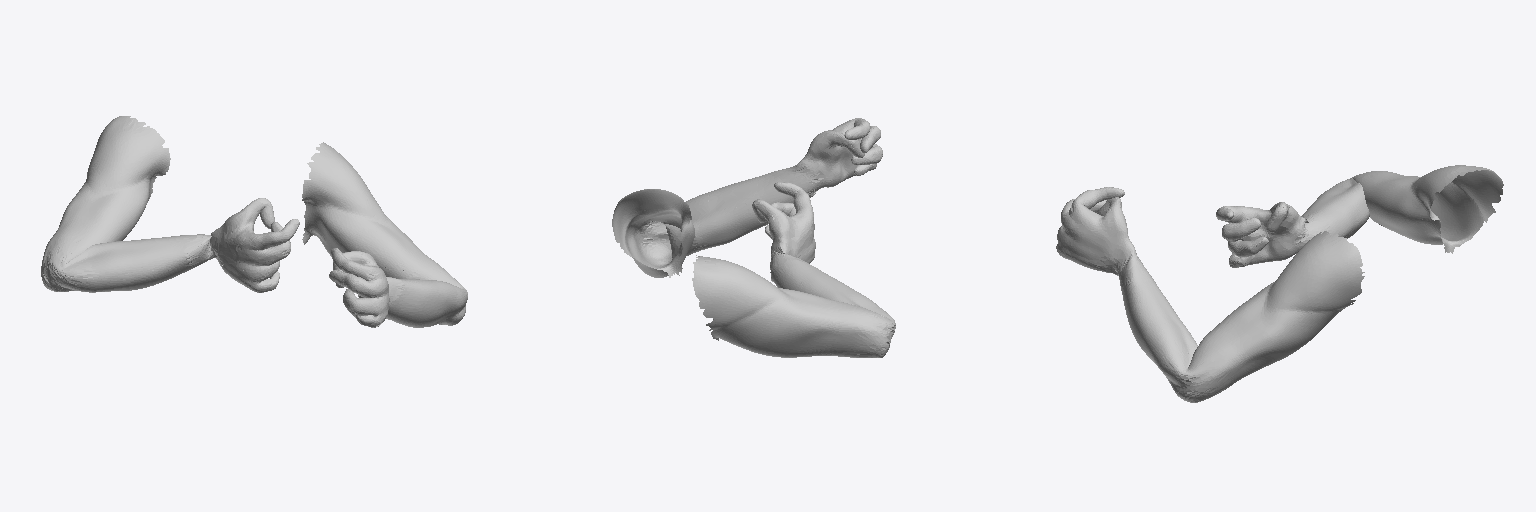
File: MP40-ReloadArms.obj
3 views of the same model, side by side, from view 1: azimuth 30°, elevation 25°; view 2: azimuth 150°, elevation 25°; view 3: azimuth 270°, elevation 25° (orthographic).
Visible parts, largest first — view 1: Decimated_Cartoon; view 2: Decimated_Cartoon; view 3: Decimated_Cartoon.
Boxes of the visible parts, box(x1,y1,x2,y2) form: Decimated_Cartoon: box(41, 116, 467, 327); Decimated_Cartoon: box(612, 118, 895, 357); Decimated_Cartoon: box(1056, 165, 1503, 402).
Size of the model in its own units: 4.71 by 1.98 by 5.49.